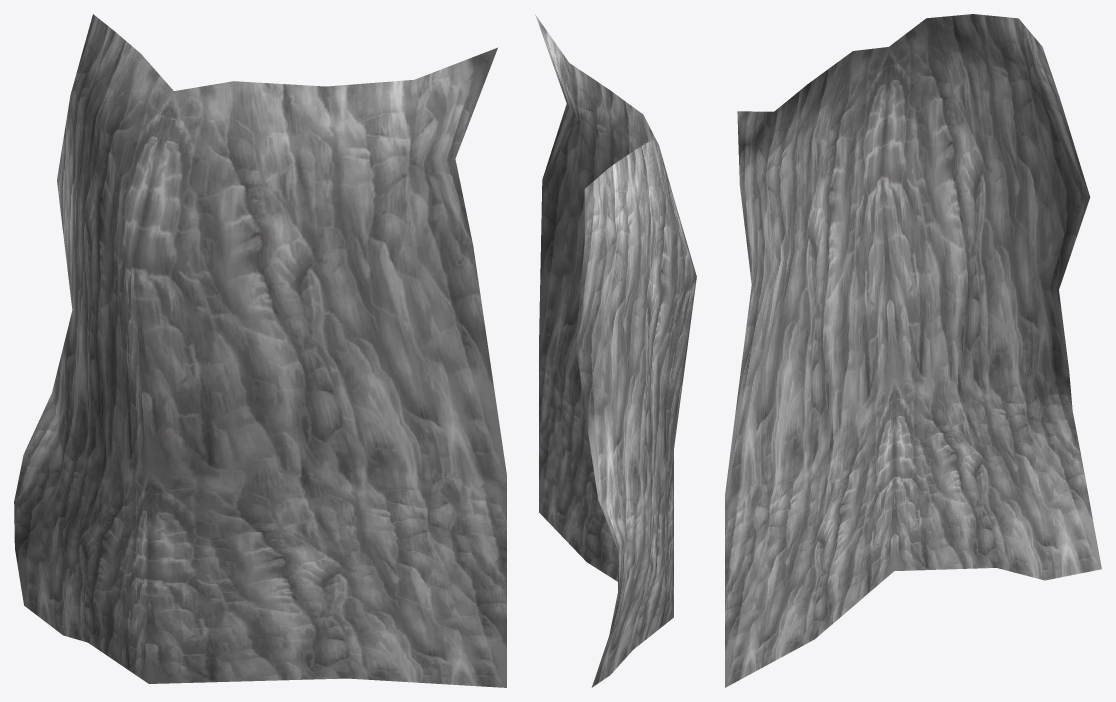
File: SWORDLIGHT20_PS-AREA03_199.fbx
3 renders of one model, left to right at view 1: azimuth 30°, elevation 25°; view 2: azimuth 150°, elevation 25°; view 3: azimuth 270°, elevation 25°, orthographic. The views are drawn at different scales.
Visible parts, largest first — view 1: SWORDLIGHT20_PS-AREA03_199; view 2: SWORDLIGHT20_PS-AREA03_199; view 3: SWORDLIGHT20_PS-AREA03_199.
Boxes of the visible parts, bbox=[...] form: SWORDLIGHT20_PS-AREA03_199: bbox=[14, 14, 506, 687]; SWORDLIGHT20_PS-AREA03_199: bbox=[535, 14, 696, 687]; SWORDLIGHT20_PS-AREA03_199: bbox=[725, 14, 1101, 687].
Size of the model in its own units: 73182 by 152825 by 89008.
1 material, 1 textured.
